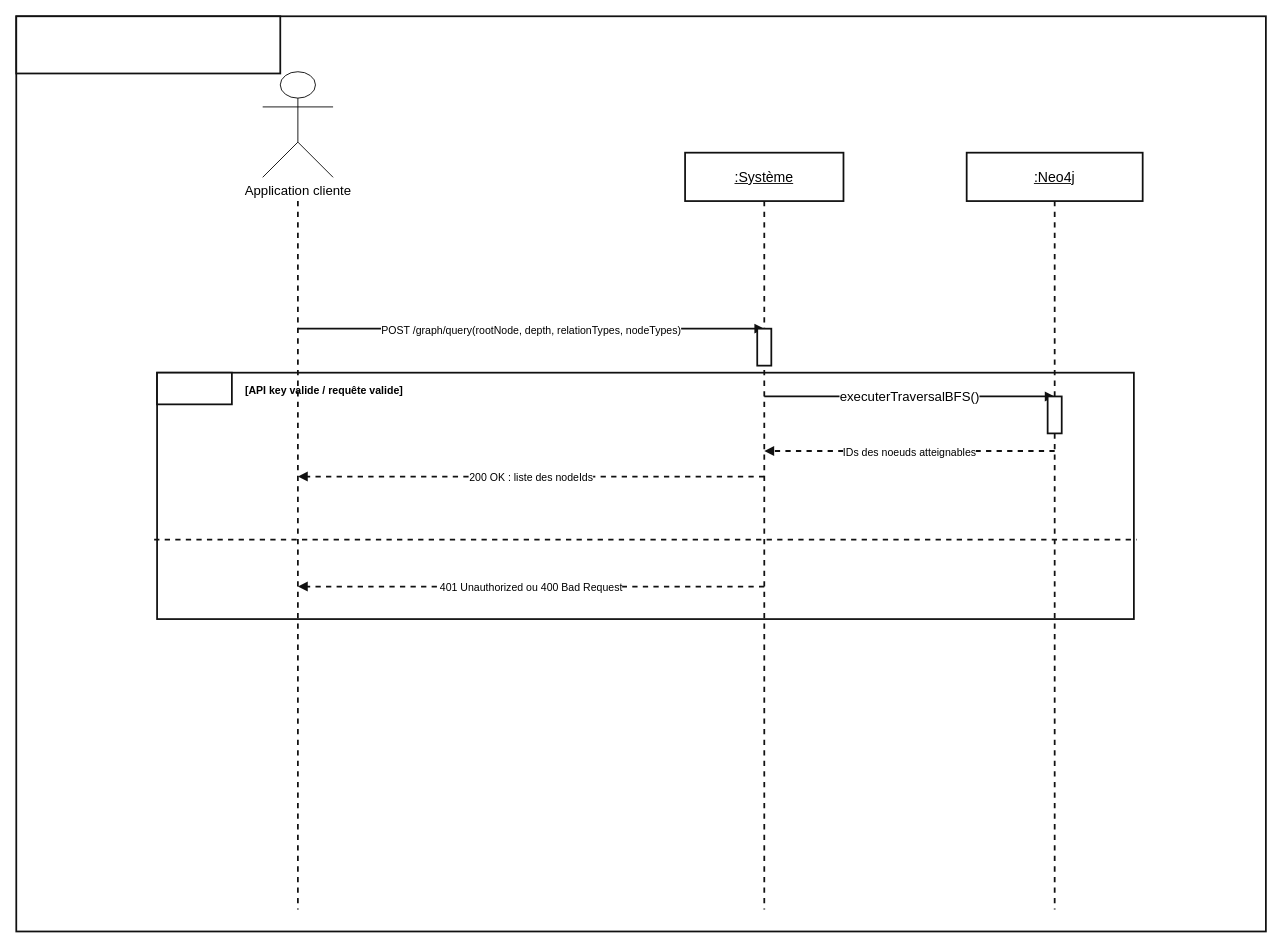
Some shapes in this 1281 by 947 pixel diagram are drawn without their labels. Each missing label, with the centre of its shape:
"alt" goes at [194,388].
"Explorer un sous-graphe BFS" goes at [148,44].
